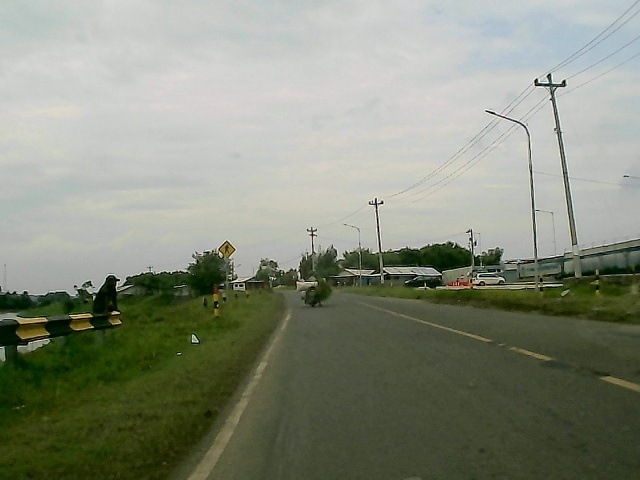Peringatan orang menyeberang: (217, 239, 237, 260)
